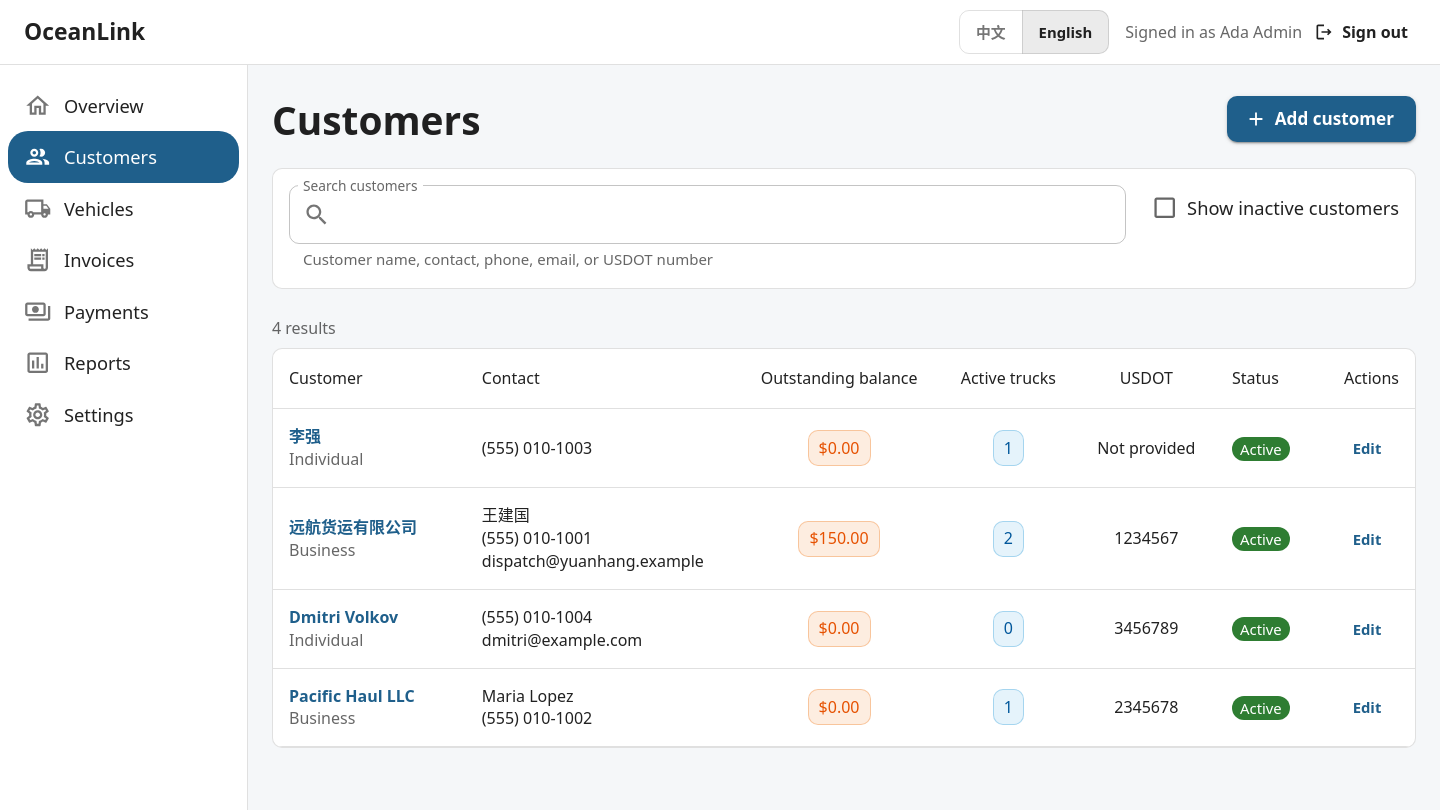
Test: customers list › clearly marks the customer opened from the list as selected
Click the link "远航货运有限公司". click: (353, 527)
box: [289,516,417,538]
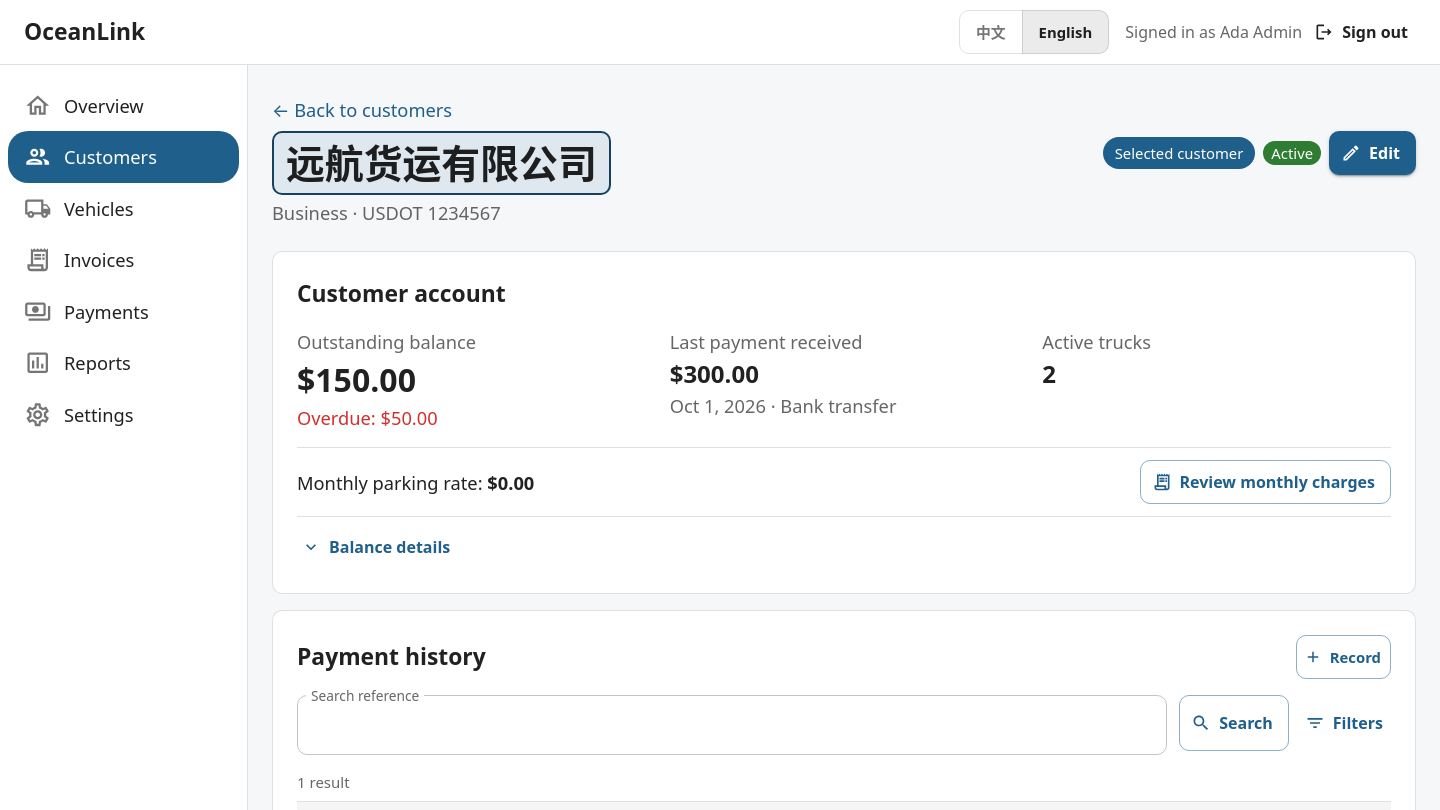
Expected: the heading "远航货运有限公司" is shown, [272,131,611,195]
Expected: the text "Selected customer" is shown, [1115,143,1243,163]
